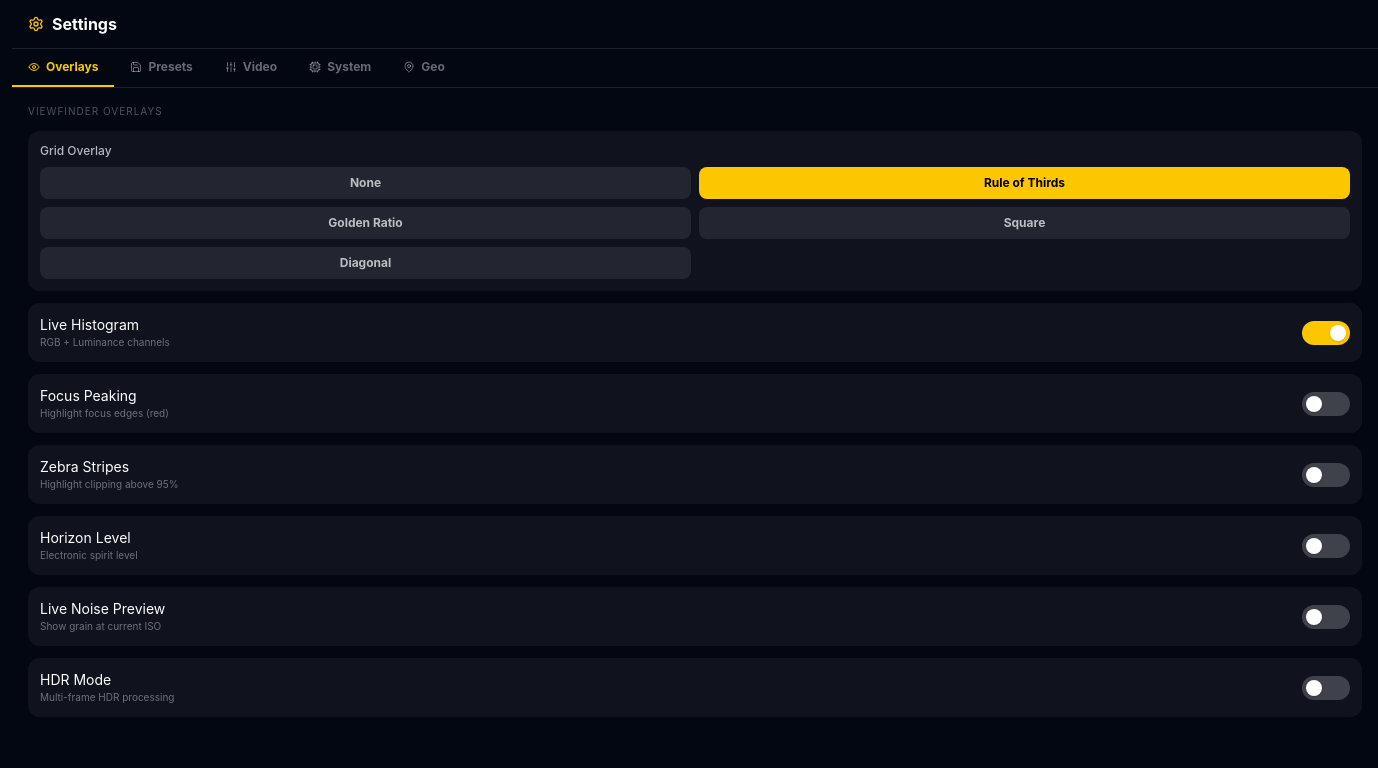
Test: SettingsPanel › switches to Presets section
The width and height of the screenshot is (1378, 768).
What coordinates should you click on to do the following:
click the button "Presets"
I would click on:
 (162, 68)
Its box is [114,49,209,87].
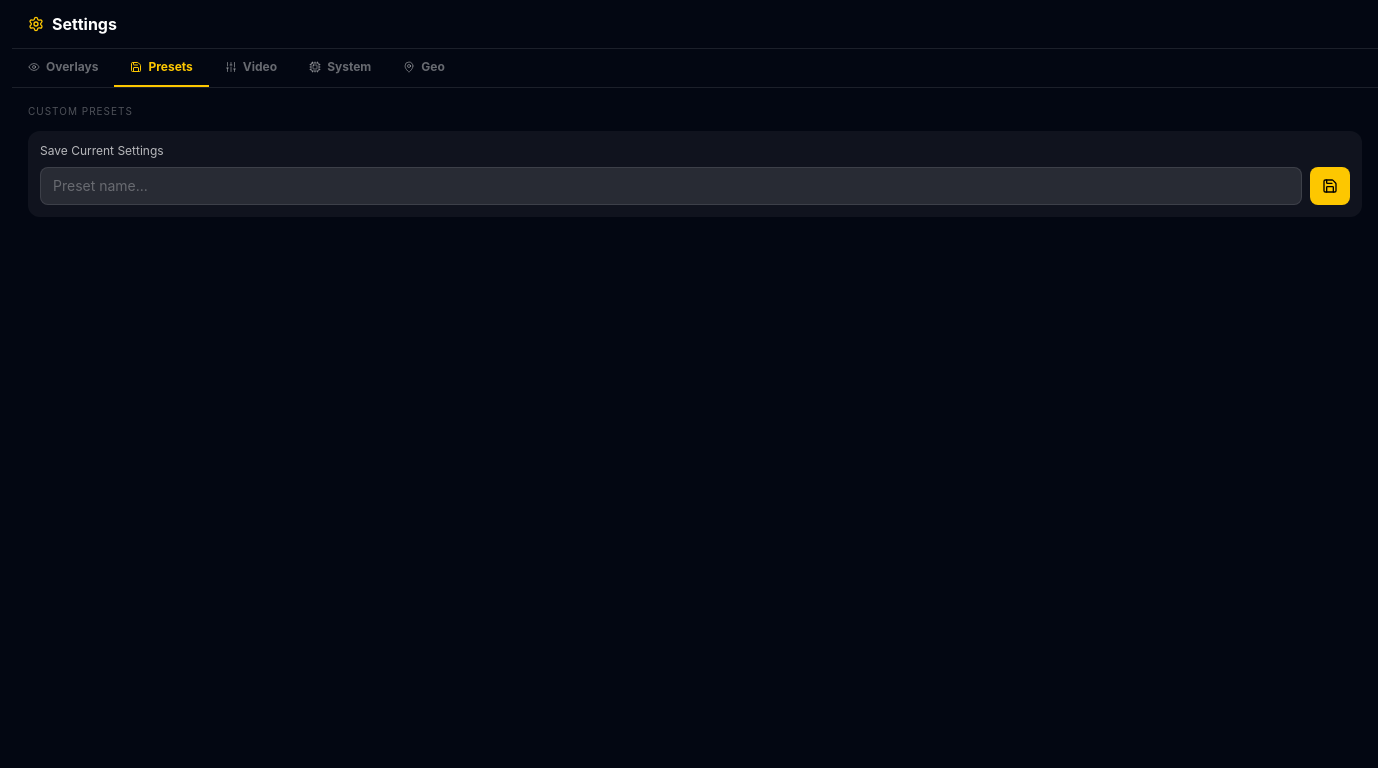
Expected: the text "Custom Presets" is shown, [28,105,133,117]
